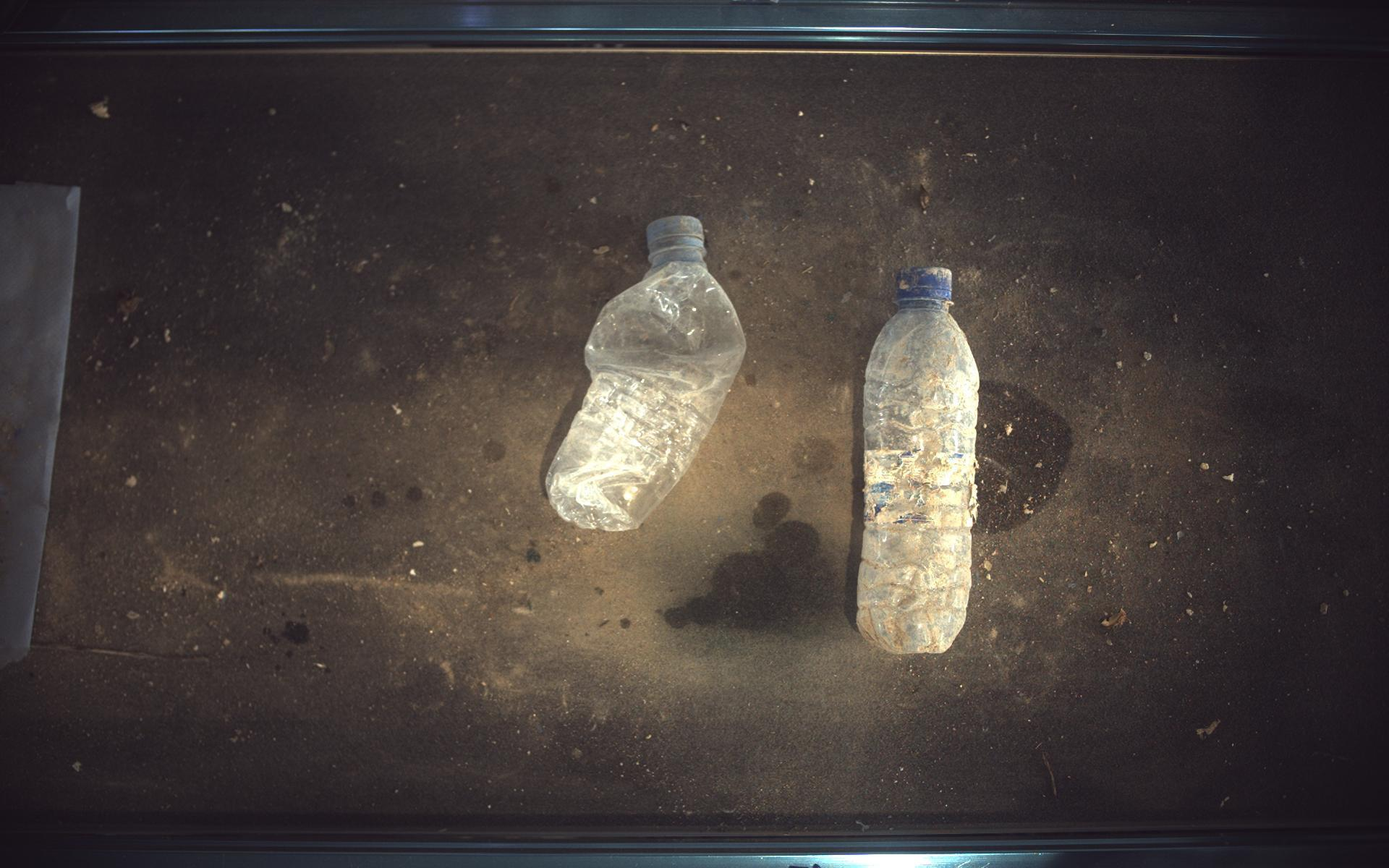general_w: (548, 216, 747, 532), (858, 267, 982, 655)
